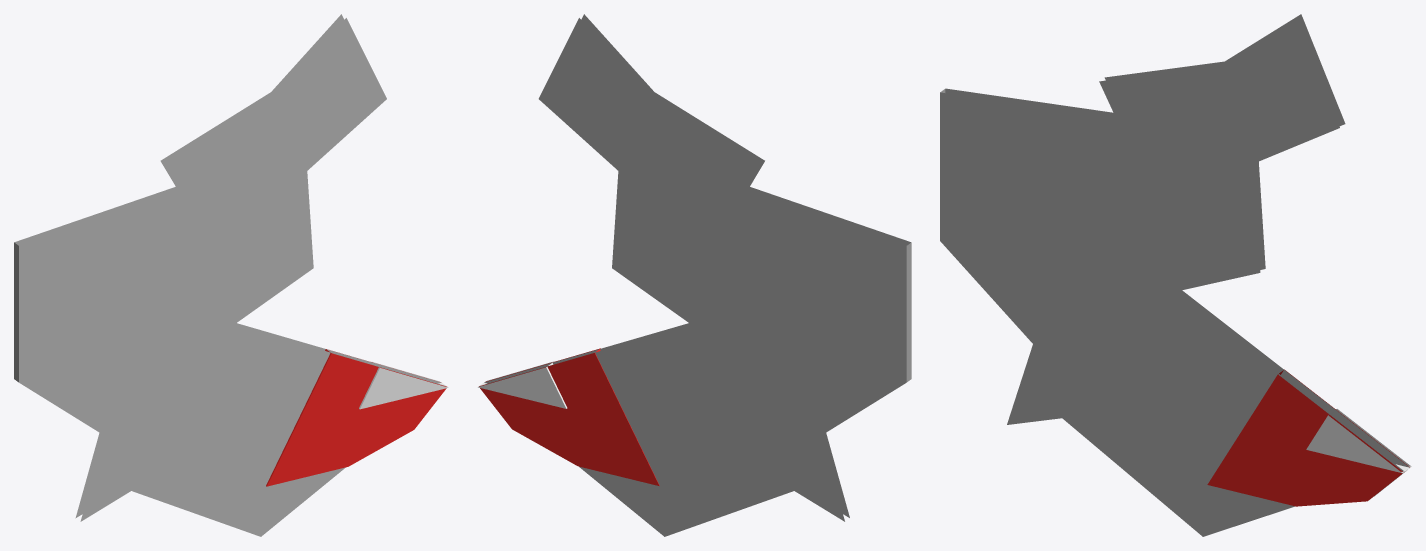
Rendered from TopMidlePH.fbx.
3 views of the same model, side by side, from view 1: azimuth 30°, elevation 25°; view 2: azimuth 150°, elevation 25°; view 3: azimuth 330°, elevation 25° (orthographic). The views are drawn at different scales.
Visible parts, largest first — view 1: Plane.070; view 2: Plane.070; view 3: Plane.070.
Boxes of the visible parts, x1,y1,x2,y2 form: Plane.070: (14,14,448,536); Plane.070: (478,14,911,536); Plane.070: (940,14,1411,536).
Size of the model in its own units: 3.59 by 4 by 0.1205.
